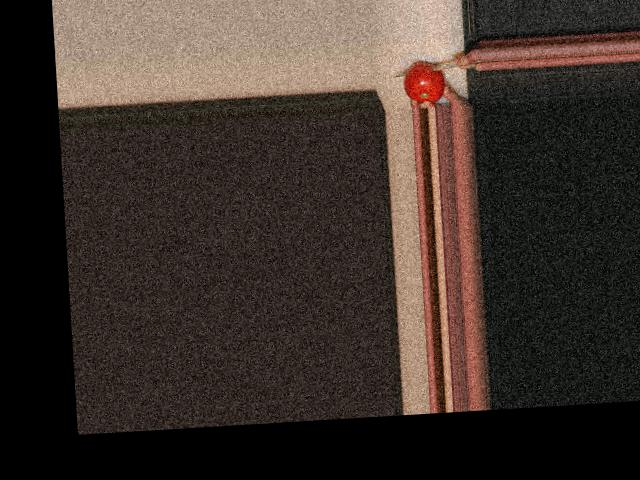tomato: (401, 60, 445, 104)
